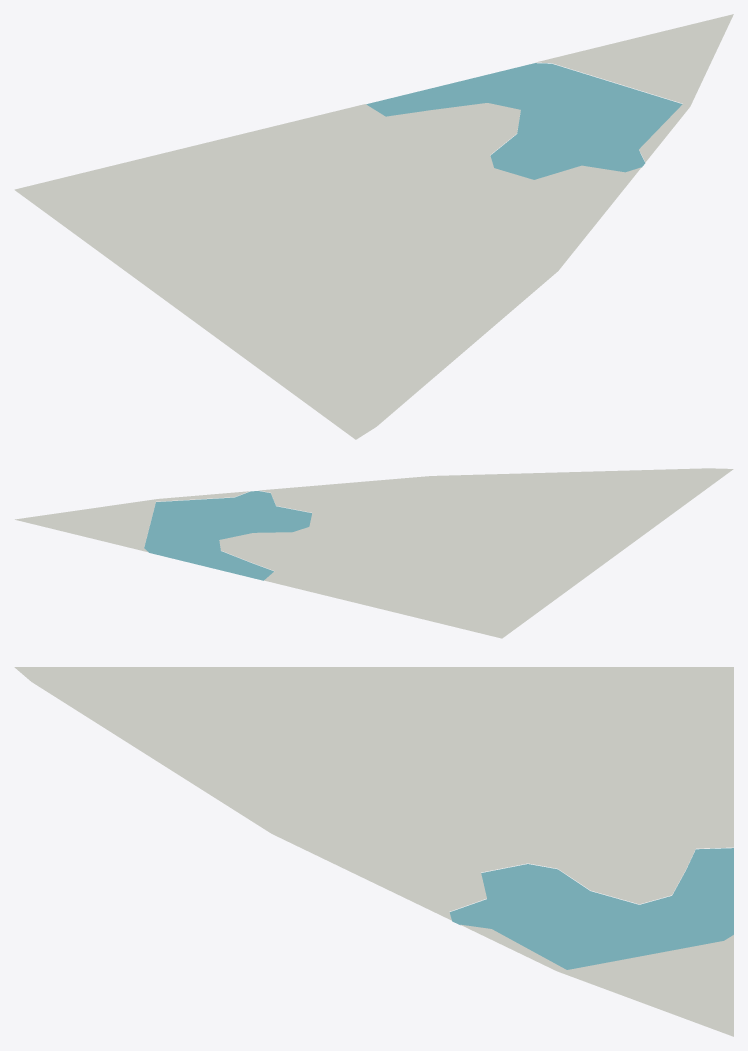
3 views of the same model, one above another, from view 1: azimuth 30°, elevation 25°; view 2: azimuth 150°, elevation 25°; view 3: azimuth 270°, elevation 25° (orthographic). The views are drawn at different scales.
Parts seen in each view (by area): view 1: city; view 2: city; view 3: city.
Part boxes in pixels (<box>): city: <box>14,14,733,439</box>; city: <box>15,468,733,638</box>; city: <box>14,667,733,1036</box>.
Size of the model in its own units: 278 by 0.18 by 229.
